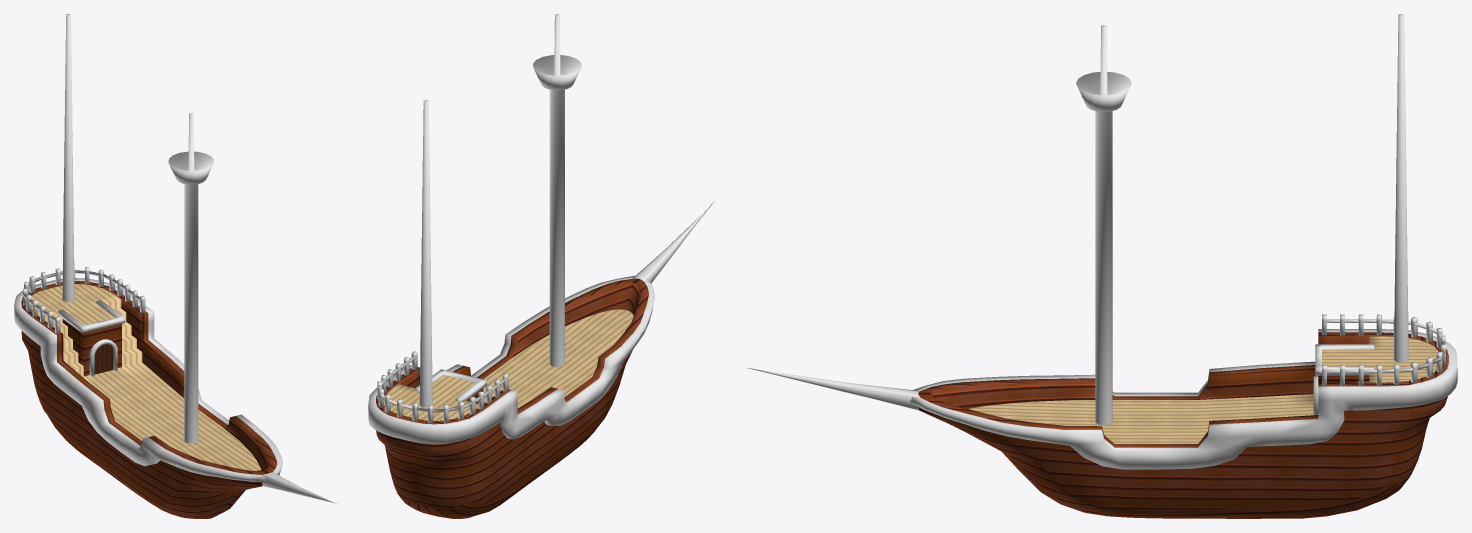
Rendered from Boat.fbx.
3 renders of one model, left to right at view 1: azimuth 30°, elevation 25°; view 2: azimuth 150°, elevation 25°; view 3: azimuth 270°, elevation 25°, orthographic. The views are drawn at different scales.
Visible parts, largest first — view 1: Hull, Floor, Line, Mast01, Mast02, Front, Plane.001, Plane; view 2: Hull, Line, Floor, Mast01, Mast02, Front; view 3: Hull, Line, Floor, Mast01, Mast02, Front.
Part boxes in pixels (box(x1,y1,x2,y2)): Hull: box(21, 281, 276, 518); Floor: box(31, 284, 261, 470); Line: box(14, 278, 282, 482); Mast01: box(168, 113, 214, 443); Mast02: box(62, 14, 74, 301); Front: box(262, 472, 338, 504); Plane.001: box(94, 344, 113, 374); Plane: box(89, 339, 117, 376); Hull: box(376, 278, 648, 518); Line: box(368, 275, 654, 444); Floor: box(384, 309, 633, 420); Mast01: box(533, 14, 581, 366); Mast02: box(419, 100, 432, 407); Front: box(632, 201, 714, 283); Hull: box(918, 332, 1448, 518); Line: box(910, 329, 1457, 469); Floor: box(969, 336, 1438, 443); Mast01: box(1076, 25, 1131, 425); Mast02: box(1394, 14, 1408, 362); Front: box(746, 367, 920, 410).
Bounding box in the file's own units: 292 × 1108 × 1445.
3 materials, 3 textured.
